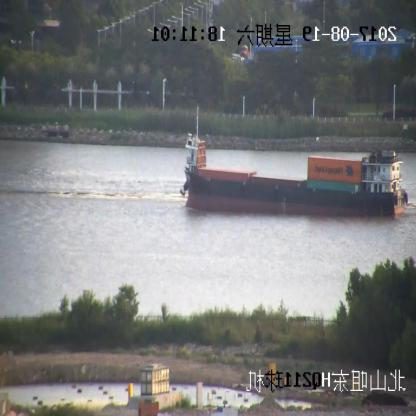Container Ship: (183, 117, 407, 216)
